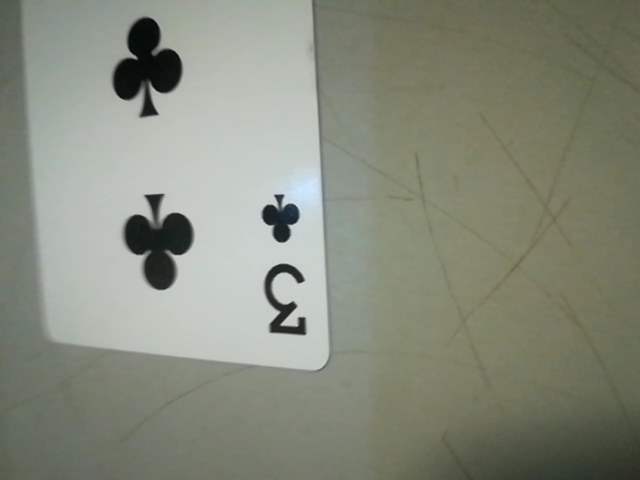mh 3: (251, 182, 323, 356)
